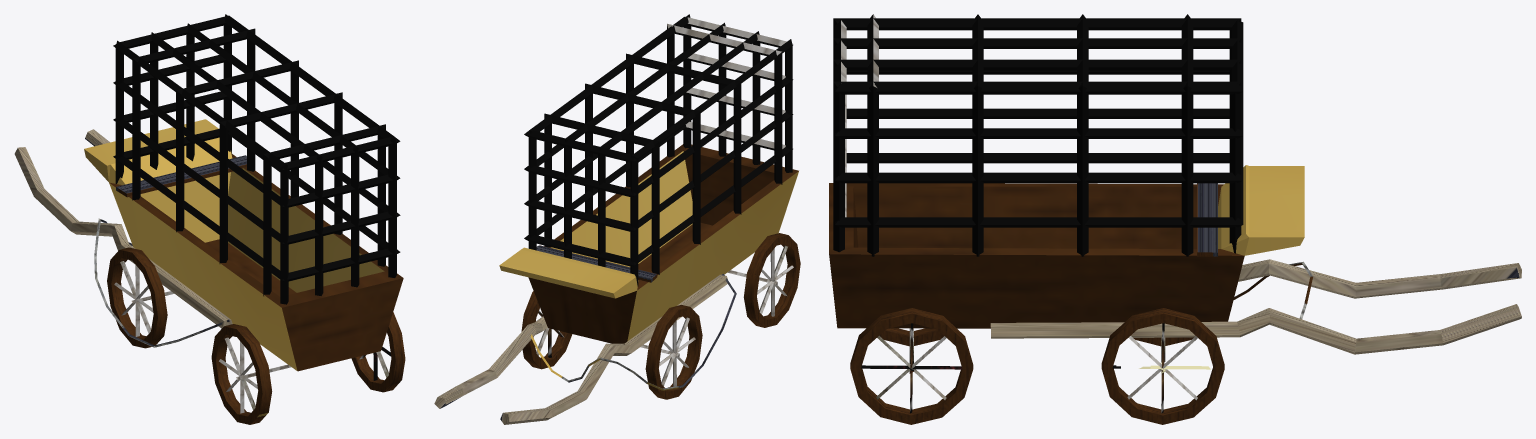
Rendered from charette02.FBX.
3 views of the same model, side by side, from view 1: azimuth 30°, elevation 25°; view 2: azimuth 150°, elevation 25°; view 3: azimuth 270°, elevation 25° (orthographic). The views are drawn at different scales.
Visible parts, largest first — view 1: chariotte02; view 2: chariotte02; view 3: chariotte02.
Boxes of the visible parts, x1,y1,x2,y2 form: chariotte02: (14, 14, 405, 424); chariotte02: (434, 14, 800, 424); chariotte02: (829, 14, 1521, 424).
Size of the model in its own units: 1.24 by 2.21 by 4.17.
